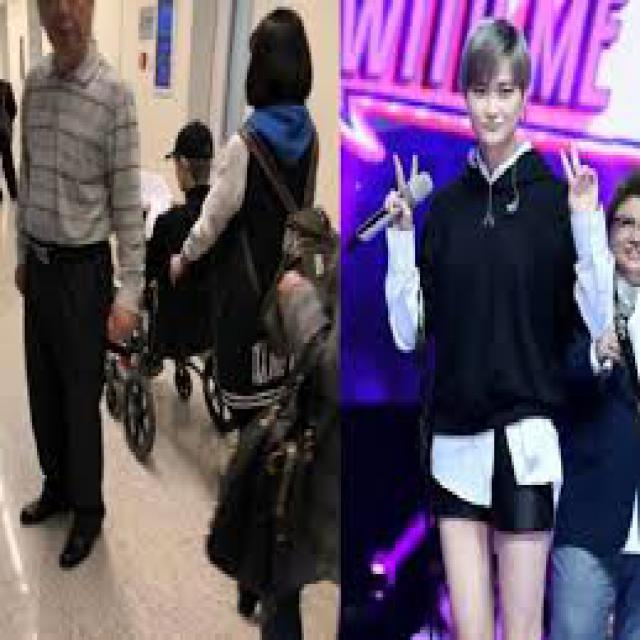wheelchairs: (106, 228, 255, 466)
